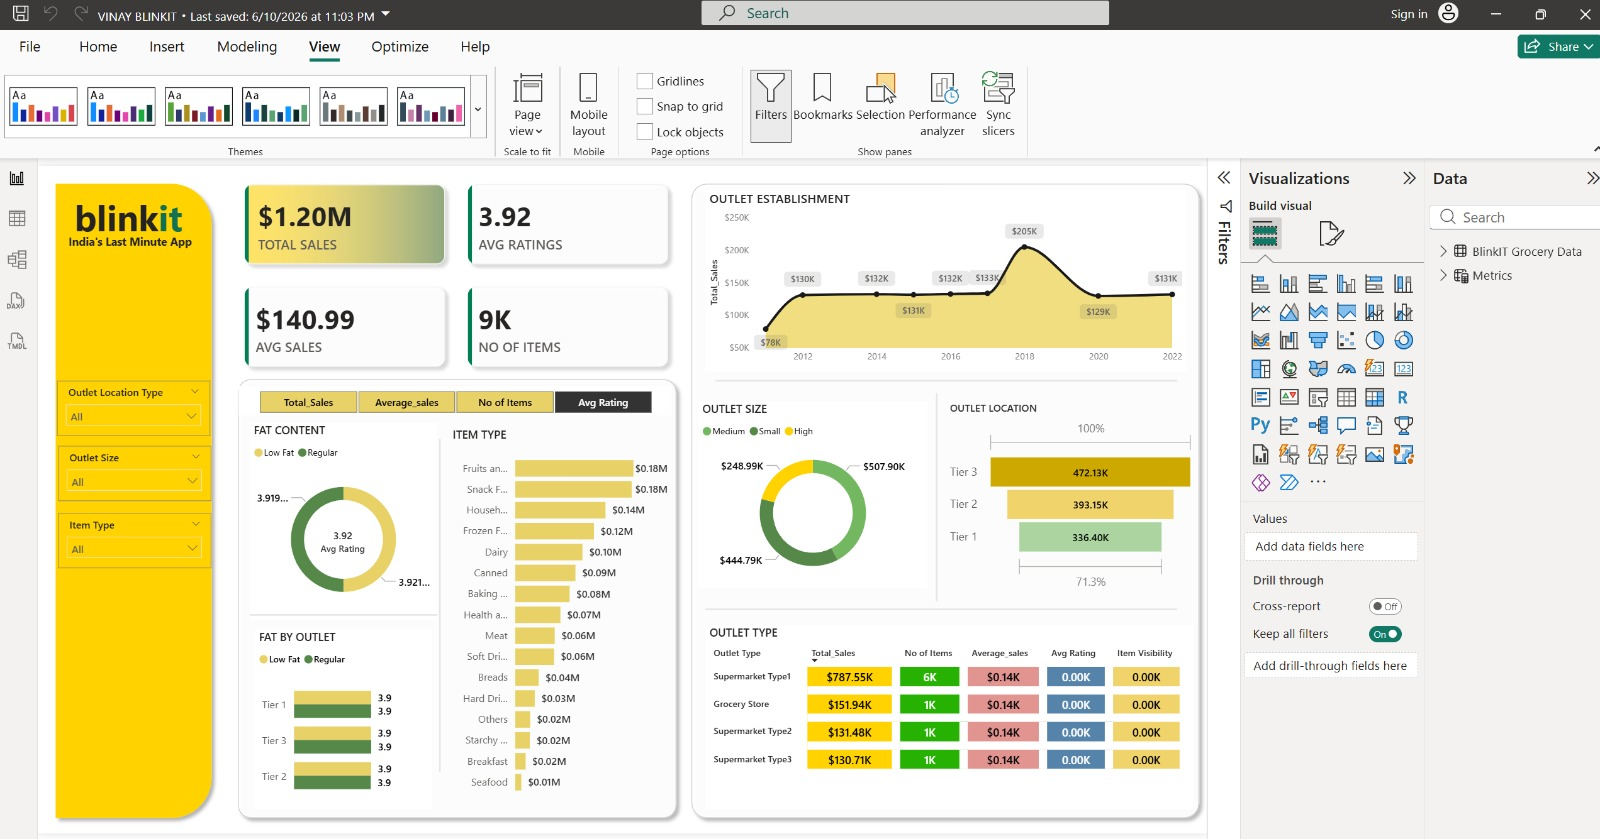

Layout of this report page (visuals, bound fields, positions):
{"tool":"powerbi","page":{"name":"Page 1","canvas":[1400,800],"ordinal":0},"visuals":[{"type":"shape","box":[12.2,12.2,205.1,778.7],"z":0},{"type":"textbox","box":[39.1,26.9,179.4,78.1],"z":1000},{"type":"textbox","box":[12.9,77.2,194.5,28.6],"z":2000},{"type":"cardVisual","fields":{"Data":["BlinkIT Grocery Data.Total_Sales","BlinkIT Grocery Data.Avg Rating","BlinkIT Grocery Data.Average_sales","BlinkIT Grocery Data.No of Items"]},"box":[225.8,0,552.9,263.6],"z":3000},{"type":"shape","box":[230.7,246.6,543.1,544.4],"z":4000},{"type":"donutChart","title":"FAT CONTENT","fields":{"Y":["BlinkIT Grocery Data.Avg Rating"],"Category":["BlinkIT Grocery Data.Item Fat Content"]},"box":[253.9,307.6,224.6,236.8],"z":5000},{"type":"slicer","fields":{"Values":["Metrics.Metrics"]},"box":[240.5,263.6,518.7,35.4],"z":6000},{"type":"cardVisual","fields":{"Data":["BlinkIT Grocery Data.Avg Rating"]},"box":[297.8,416.2,135.5,67.1],"z":7000},{"type":"clusteredBarChart","title":"FAT BY OUTLET","fields":{"Y":["BlinkIT Grocery Data.Avg Rating"],"Category":["BlinkIT Grocery Data.Outlet Location Type"],"Series":["BlinkIT Grocery Data.Item Fat Content"]},"box":[260,555.4,212.4,216],"z":8000},{"type":"shape","box":[253.9,532.2,224.6,12.2],"z":9000},{"type":"shape","box":[462.6,327.1,37.8,399.1],"z":10000},{"type":"barChart","title":"ITEM TYPE","fields":{"Category":["BlinkIT Grocery Data.Item Type"],"Y":["BlinkIT Grocery Data.Total_Sales"]},"box":[491.9,312.5,267.3,451.6],"z":11000},{"type":"shape","box":[773.8,12.2,626.1,778.7],"z":12000},{"type":"lineChart","title":"OUTLET ESTABLISHMENT","fields":{"Y":["BlinkIT Grocery Data.Total_Sales"],"Category":["BlinkIT Grocery Data.Outlet Establishment Year"]},"box":[799.5,28.1,576.1,218.5],"z":13000},{"type":"donutChart","title":"OUTLET SIZE","fields":{"Y":["BlinkIT Grocery Data.Total_Sales"],"Category":["BlinkIT Grocery Data.Outlet Size"]},"box":[790.9,281.9,274.6,224.6],"z":14000},{"type":"shape","box":[1065.5,272.2,22,250.2],"z":15000},{"type":"funnel","title":"OUTLET LOCATION","fields":{"Y":["Sum(BlinkIT Grocery Data.Sales)"],"Category":["BlinkIT Grocery Data.Outlet Location Type"]},"box":[1087.5,281.9,302.7,231.9],"z":16000},{"type":"shape","box":[811.7,246.6,552.9,22],"z":17000},{"type":"pivotTable","title":"OUTLET TYPE","fields":{"Rows":["BlinkIT Grocery Data.Outlet Type"],"Values":["BlinkIT Grocery Data.Total_Sales","BlinkIT Grocery Data.No of Items","BlinkIT Grocery Data.Average_sales","BlinkIT Grocery Data.Avg Rating","Avg(BlinkIT Grocery Data.Item Visibility)"]},"box":[799.5,550.5,584.6,220.9],"z":18000},{"type":"shape","box":[799.5,521.2,565.1,20.7],"z":19000},{"type":"slicer","fields":{"Values":["BlinkIT Grocery Data.Outlet Location Type"]},"box":[23.2,257.5,183.1,65.9],"z":20000},{"type":"slicer","fields":{"Values":["BlinkIT Grocery Data.Outlet Size"]},"box":[24.4,335.7,183.1,65.9],"z":21000},{"type":"slicer","fields":{"Values":["BlinkIT Grocery Data.Item Type"]},"box":[24.4,416.2,183.1,65.9],"z":22000}]}

Visuals, with their boxes on the page's 1400x800 design canvas (x1, y1, x2, y2). These are canvas units, not pixel positions in the 1600x839 screenshot, which may show the page scaled, cropped or inside an application window:
shape: {"left": 12, "top": 12, "right": 217, "bottom": 791}
textbox: {"left": 39, "top": 27, "right": 218, "bottom": 105}
textbox: {"left": 13, "top": 77, "right": 207, "bottom": 106}
cardVisual - BlinkIT Grocery Data.Total_Sales x BlinkIT Grocery Data.Avg Rating: {"left": 226, "top": 0, "right": 779, "bottom": 264}
shape: {"left": 231, "top": 247, "right": 774, "bottom": 791}
"FAT CONTENT" donutChart: {"left": 254, "top": 308, "right": 478, "bottom": 544}
slicer - Metrics.Metrics: {"left": 240, "top": 264, "right": 759, "bottom": 299}
cardVisual - BlinkIT Grocery Data.Avg Rating: {"left": 298, "top": 416, "right": 433, "bottom": 483}
"FAT BY OUTLET" clusteredBarChart: {"left": 260, "top": 555, "right": 472, "bottom": 771}
shape: {"left": 254, "top": 532, "right": 478, "bottom": 544}
shape: {"left": 463, "top": 327, "right": 500, "bottom": 726}
"ITEM TYPE" barChart: {"left": 492, "top": 312, "right": 759, "bottom": 764}
shape: {"left": 774, "top": 12, "right": 1400, "bottom": 791}
"OUTLET ESTABLISHMENT" lineChart: {"left": 800, "top": 28, "right": 1376, "bottom": 247}
"OUTLET SIZE" donutChart: {"left": 791, "top": 282, "right": 1066, "bottom": 506}
shape: {"left": 1066, "top": 272, "right": 1088, "bottom": 522}
"OUTLET LOCATION" funnel: {"left": 1088, "top": 282, "right": 1390, "bottom": 514}
shape: {"left": 812, "top": 247, "right": 1365, "bottom": 269}
"OUTLET TYPE" pivotTable: {"left": 800, "top": 550, "right": 1384, "bottom": 771}
shape: {"left": 800, "top": 521, "right": 1365, "bottom": 542}
slicer - BlinkIT Grocery Data.Outlet Location Type: {"left": 23, "top": 258, "right": 206, "bottom": 323}
slicer - BlinkIT Grocery Data.Outlet Size: {"left": 24, "top": 336, "right": 208, "bottom": 402}
slicer - BlinkIT Grocery Data.Item Type: {"left": 24, "top": 416, "right": 208, "bottom": 482}
